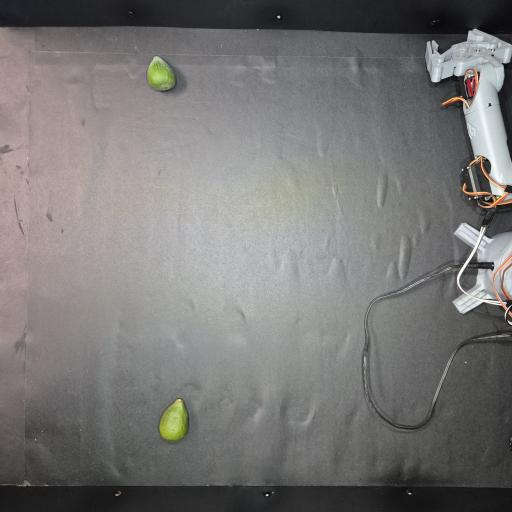higo: (159, 399, 188, 440), (147, 56, 176, 91)
